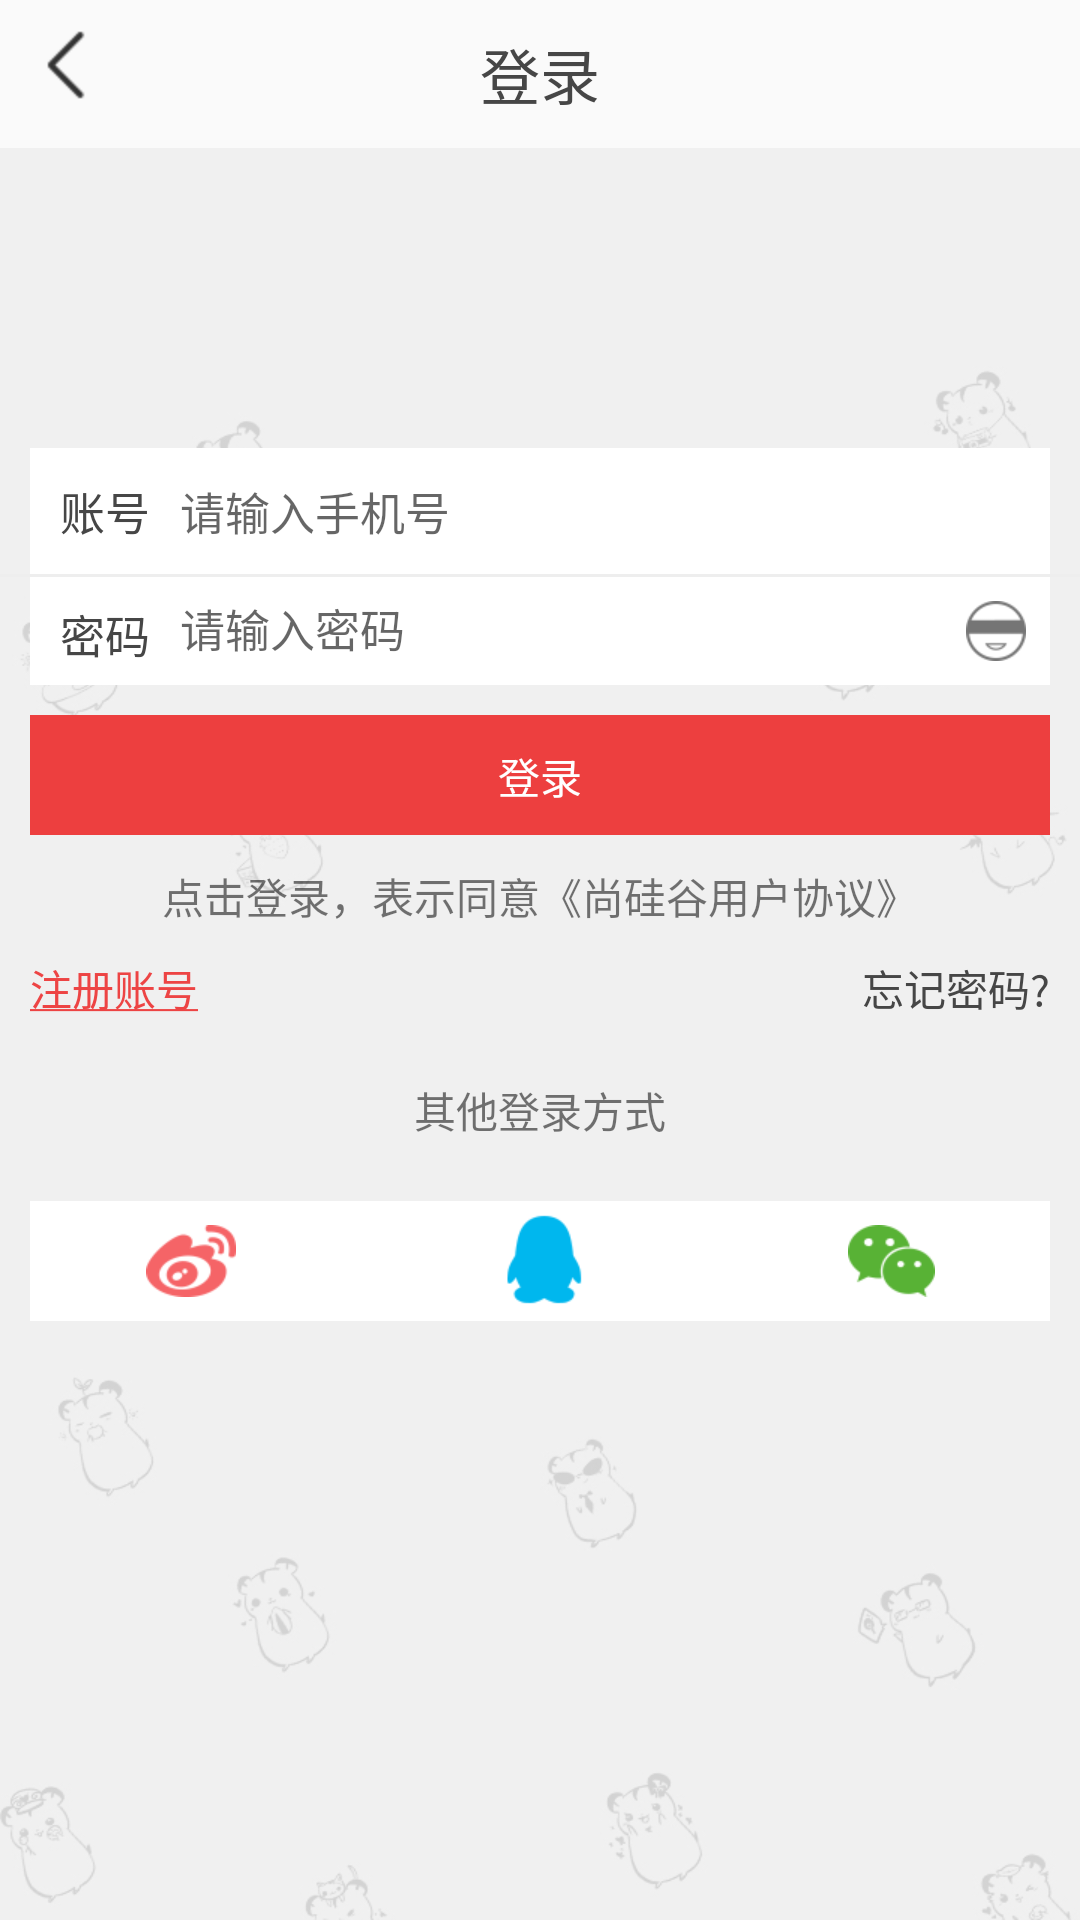

Icons on this 1080x1920 Android screen, each with the point to tap as (x=x, y=y):
password invisible: (x=996, y=631)
top bar left back: (x=66, y=65)
